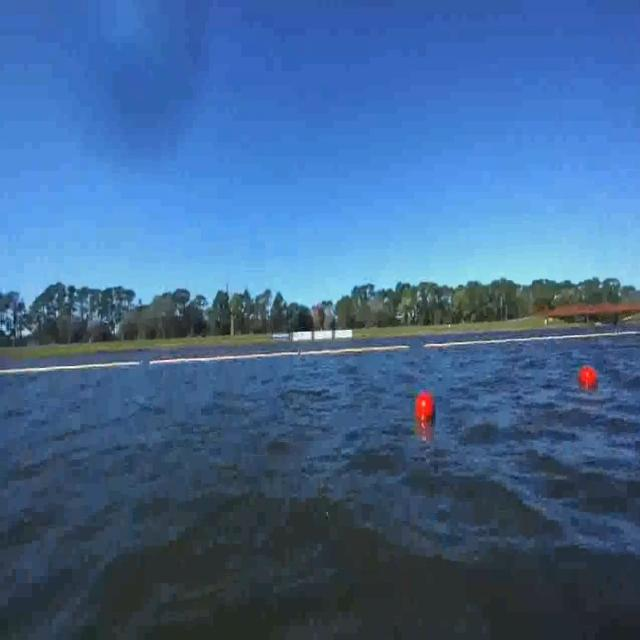red-buoy: (417, 394, 435, 423), (578, 366, 597, 390)
